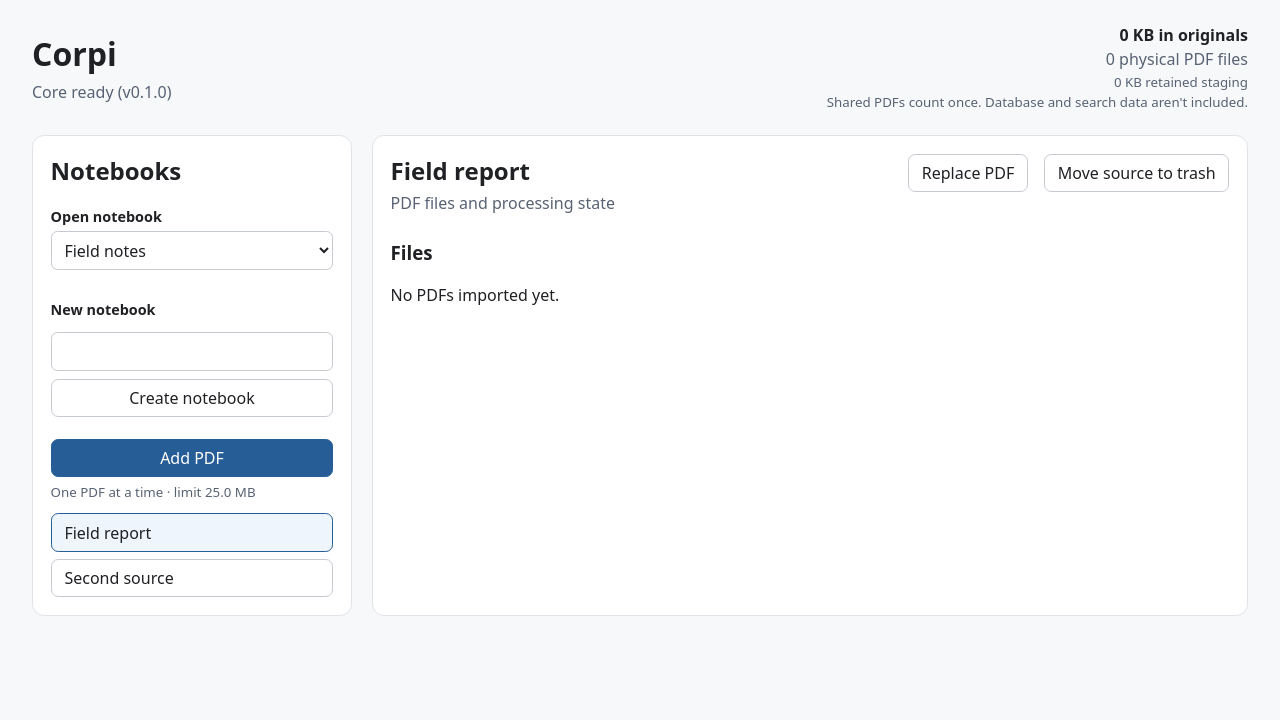
Test case: ignores a report that arrives after switching sources
This screenshot has width=1280, height=720.
Click the button "Second source".
click(119, 578)  # box [51, 559, 333, 597]
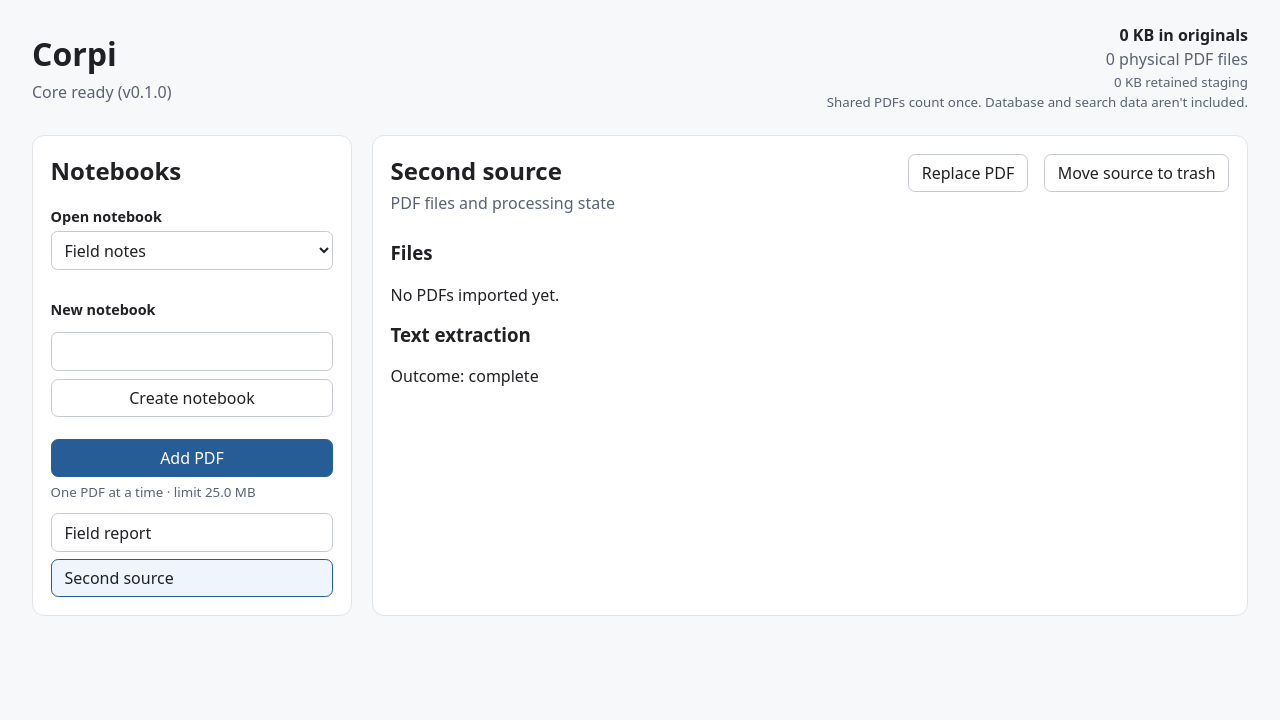
Expected: the text "Outcome: complete" is shown, [391, 365, 539, 387]
